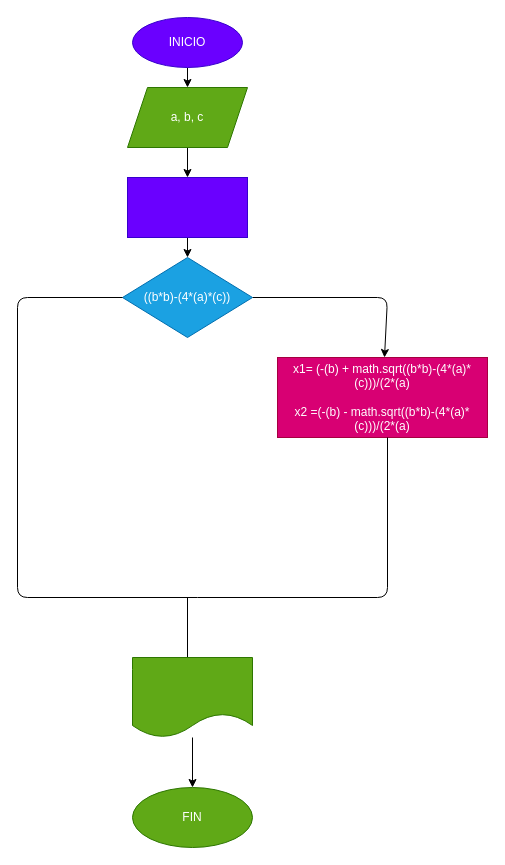
This 505x865 diagram has some shape labels left out. Here are the shapes that lost their labels. From the top down, the centre of each, then its label:
At point 187,207: "ax^2+bx+c=0".
At point 192,697: "x1 , x2".
